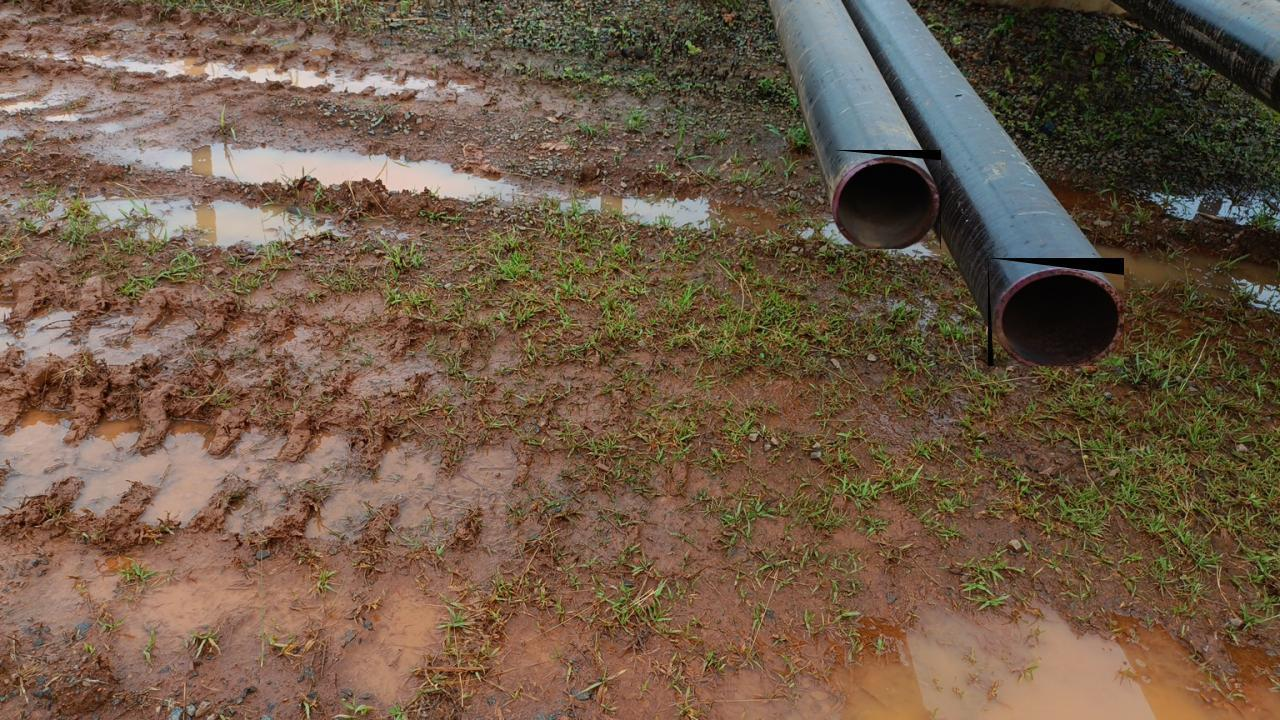pipe: (988, 258, 1124, 366), (833, 150, 941, 249)
